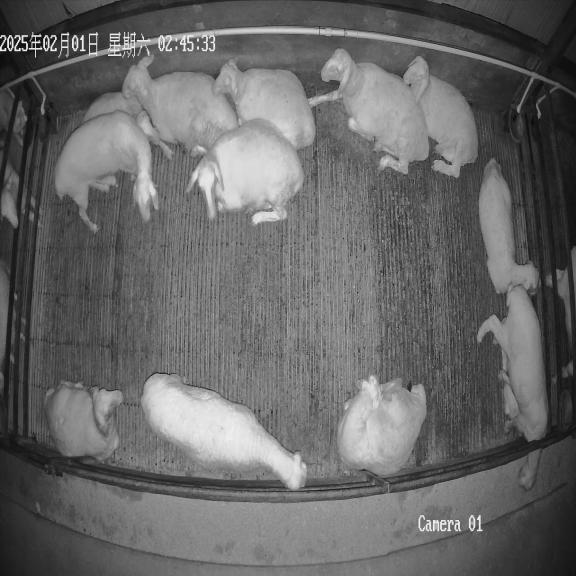eating: (477, 287, 548, 495)
lying: (308, 49, 429, 174), (187, 119, 304, 226), (122, 56, 238, 156), (214, 60, 316, 150), (403, 56, 478, 178), (337, 375, 427, 475), (478, 158, 538, 293), (44, 381, 123, 462), (82, 92, 172, 158)
stand: (141, 373, 306, 490), (54, 111, 158, 232)
